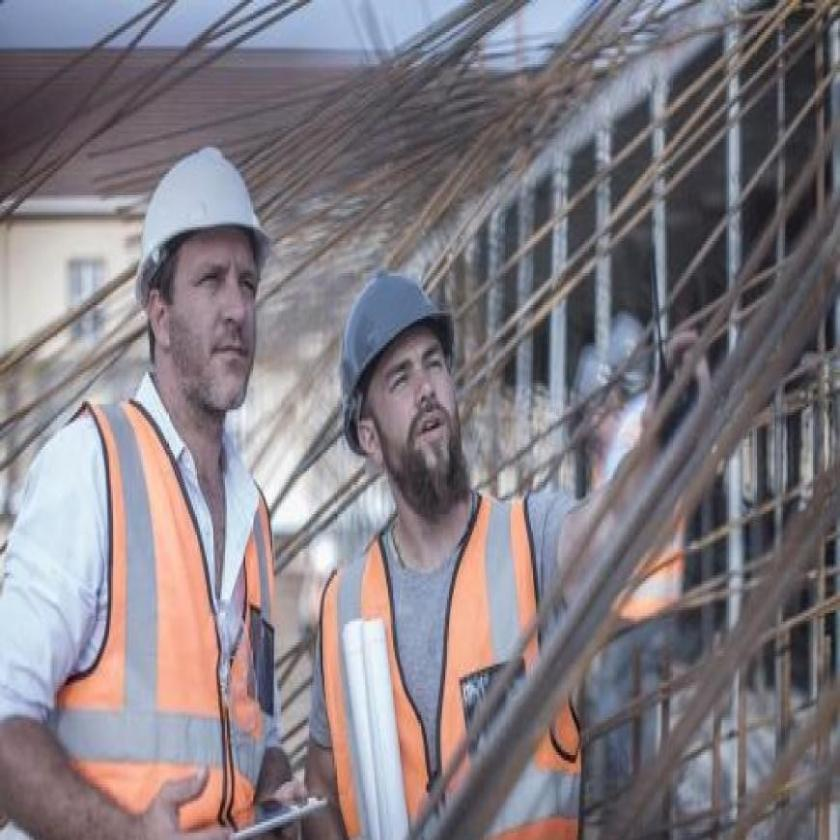Con_casco: (135, 112, 293, 426), (330, 258, 490, 517)
